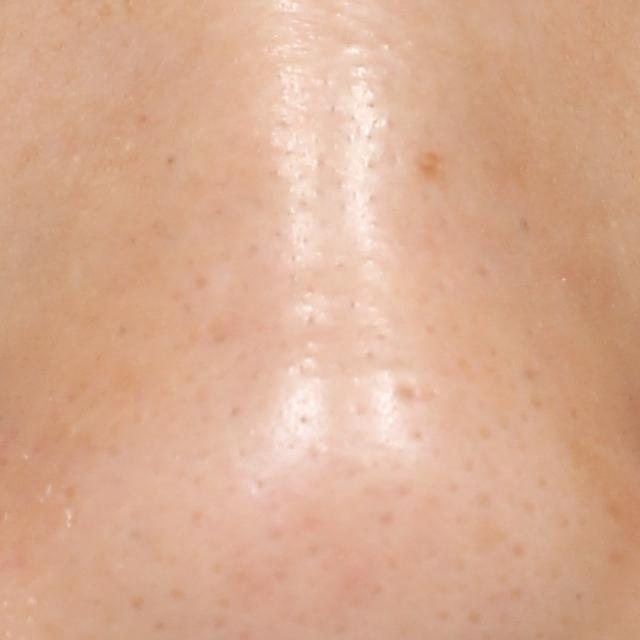melasma: (422, 148, 450, 184)
